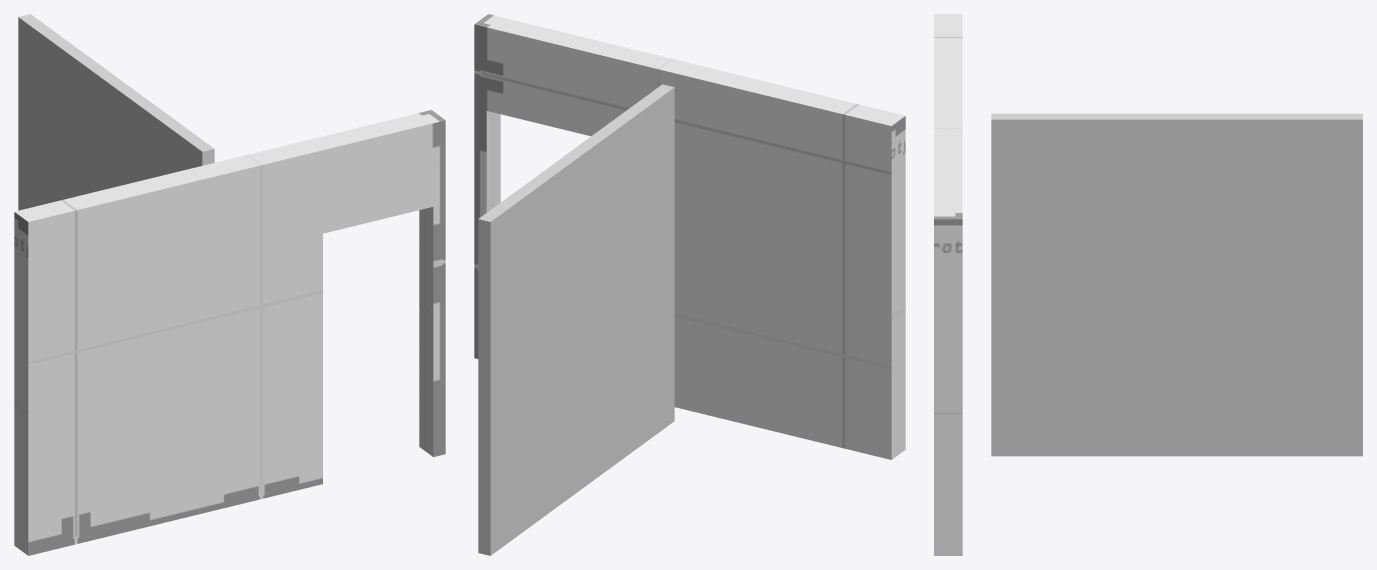
The model's file is walls back.fbx.
3 views of the same model, side by side, from view 1: azimuth 30°, elevation 25°; view 2: azimuth 150°, elevation 25°; view 3: azimuth 270°, elevation 25° (orthographic).
Parts seen in each view (by area): view 1: HouseWallL, HouseWallF; view 2: HouseWallL, HouseWallF; view 3: HouseWallF, HouseWallL.
Boxes of the visible parts, bbox=[...] form: HouseWallL: bbox=[14, 110, 445, 555]; HouseWallF: bbox=[18, 14, 214, 210]; HouseWallL: bbox=[474, 14, 905, 459]; HouseWallF: bbox=[478, 84, 674, 555]; HouseWallF: bbox=[991, 113, 1362, 456]; HouseWallL: bbox=[934, 14, 962, 555].
Size of the model in its own units: 17 by 13 by 15.01.
Materials: 2 (1 with a texture image).
